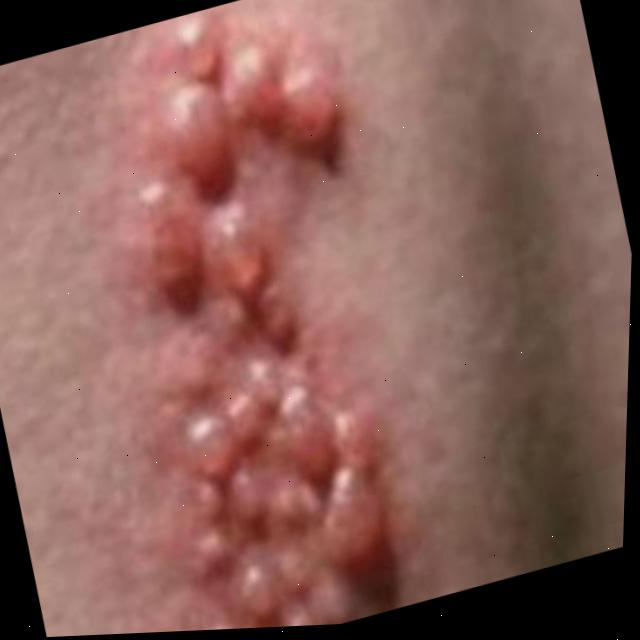Shingles: (25, 0, 465, 638)
